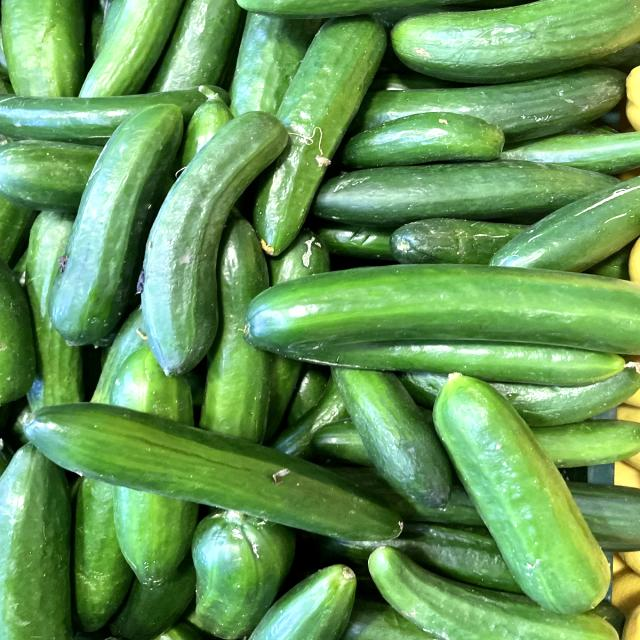cucumber: (385, 356, 640, 636), (4, 385, 415, 554), (119, 90, 305, 381), (212, 259, 640, 377)
